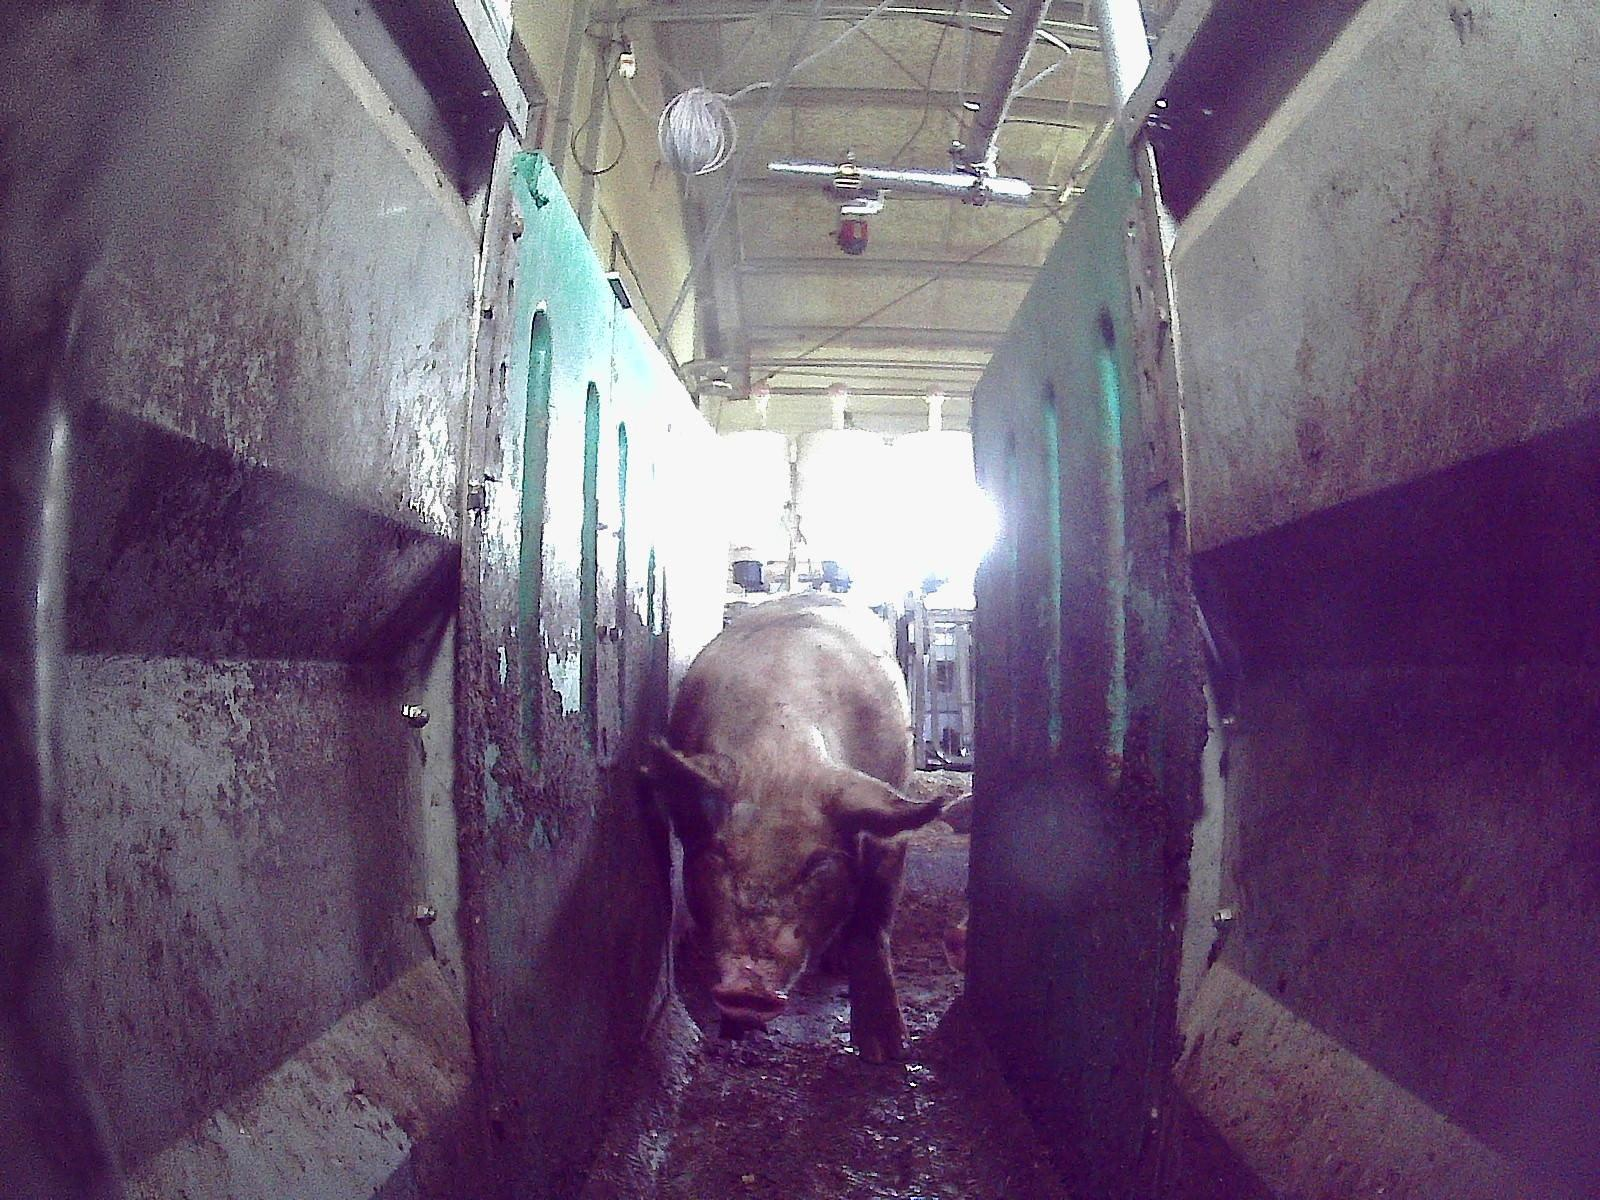Face: (685, 760, 855, 1020)
